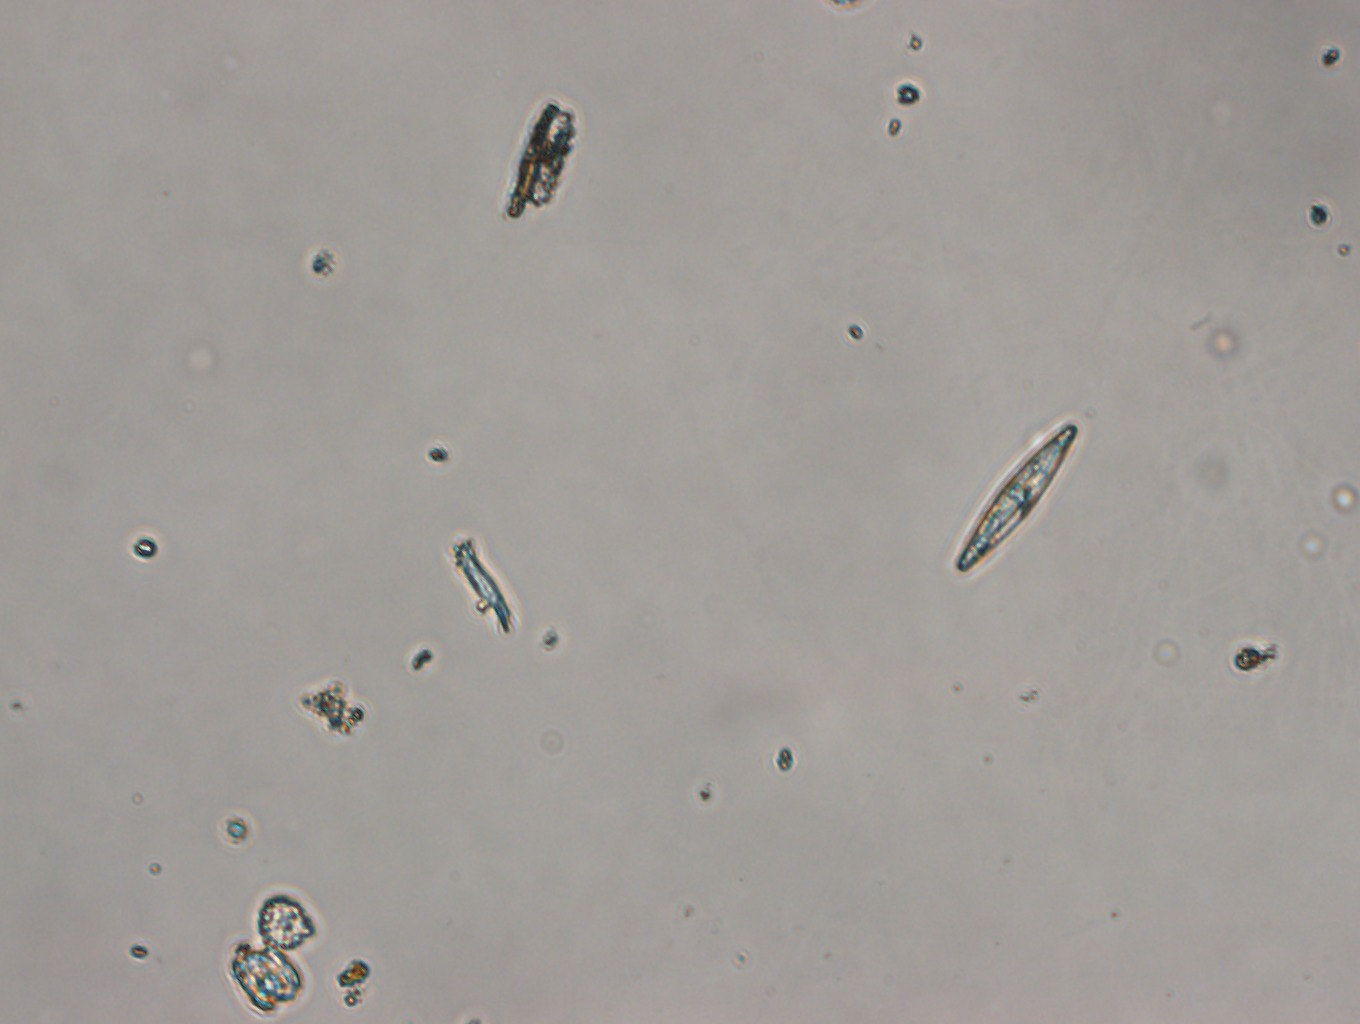navicula: (956, 422, 1078, 577)
